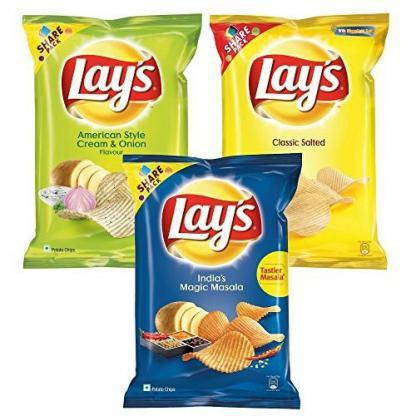classicsalted: (210, 11, 392, 269), (209, 13, 391, 152), (284, 152, 392, 272)
cream_and_onion: (21, 14, 202, 271)
indian_magic_masala: (122, 152, 304, 408)
